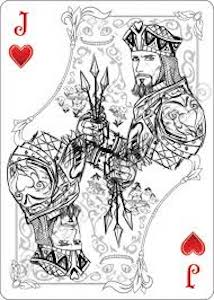JackOfHearts: (1, 1, 210, 298)
